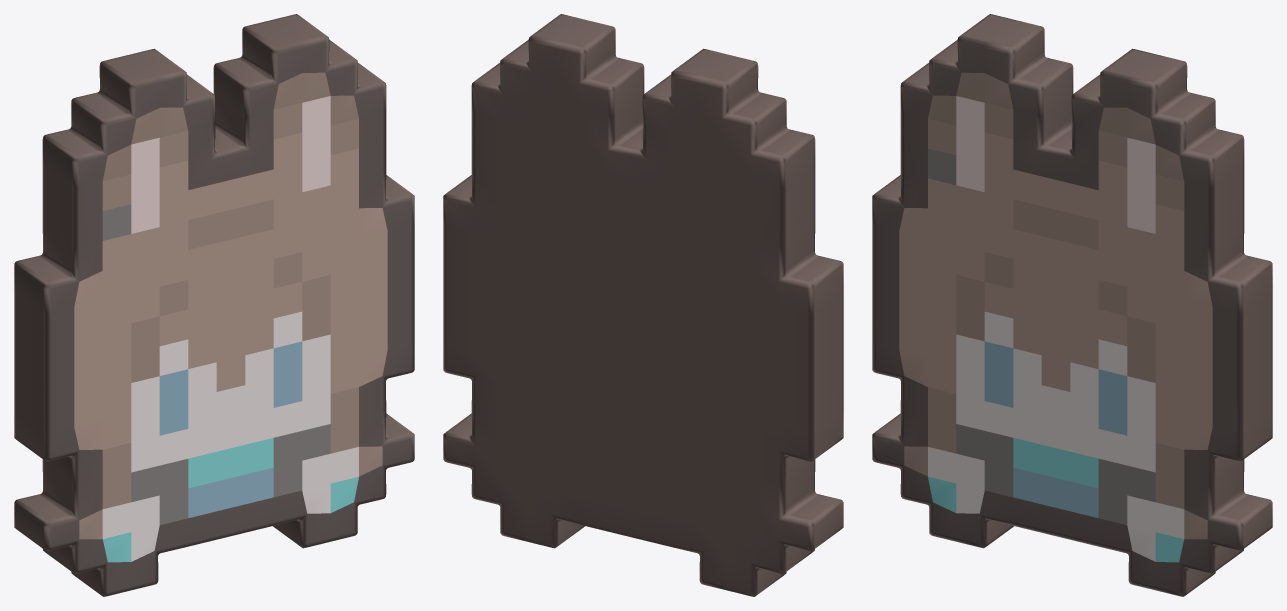
Rendered from ak-amiya.glb.
3 views of the same model, side by side, from view 1: azimuth 30°, elevation 25°; view 2: azimuth 150°, elevation 25°; view 3: azimuth 330°, elevation 25° (orthographic).
Visible parts, largest first — view 1: ak-amiya; view 2: ak-amiya; view 3: ak-amiya.
Boxes of the visible parts, x1=… form: ak-amiya: x1=14, y1=14, x2=414, y2=596; ak-amiya: x1=443, y1=14, x2=843, y2=596; ak-amiya: x1=872, y1=14, x2=1272, y2=596.
Size of the model in its own units: 1.04 by 1.36 by 0.16.
